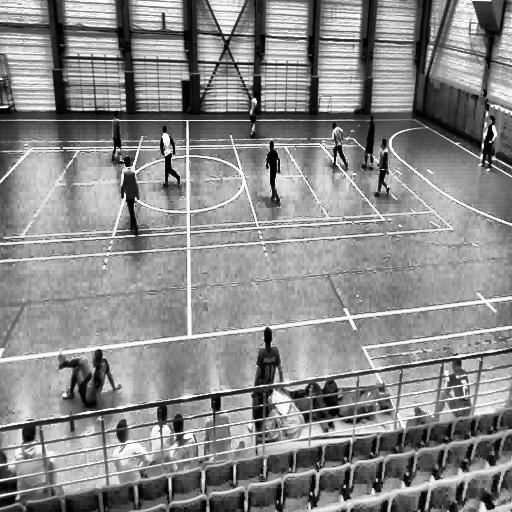player: (254, 327, 283, 410), (120, 156, 140, 236), (160, 125, 182, 188), (360, 113, 377, 174), (373, 136, 389, 199), (480, 116, 498, 170), (330, 120, 349, 168), (266, 140, 280, 205), (110, 108, 123, 163), (246, 92, 260, 142)
